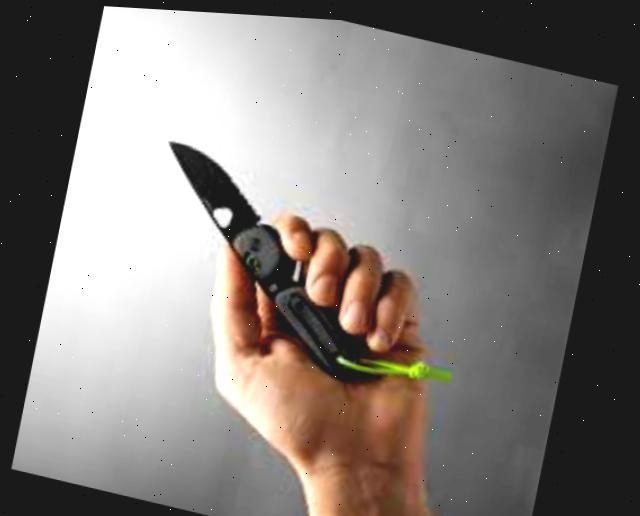pocket-knife: (125, 122, 443, 393)
